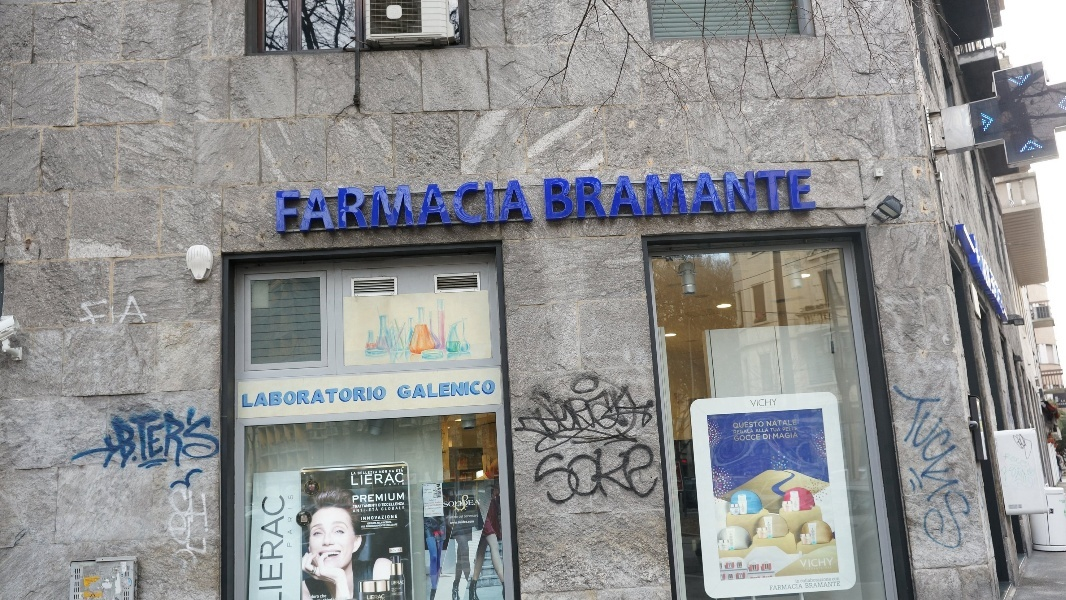text: (897, 383, 912, 554), (913, 383, 928, 554), (929, 383, 944, 554), (945, 383, 960, 554), (961, 383, 976, 554), (529, 373, 544, 452), (545, 373, 560, 452), (561, 373, 576, 452), (577, 373, 592, 452), (593, 373, 608, 452), (609, 373, 624, 452), (625, 373, 640, 452), (641, 373, 656, 452), (273, 497, 285, 592), (209, 407, 225, 475), (113, 407, 128, 475), (129, 407, 144, 475), (145, 407, 160, 475), (161, 407, 176, 475), (177, 407, 192, 475), (193, 407, 208, 475), (545, 442, 560, 510), (561, 442, 576, 510), (577, 442, 592, 510), (593, 442, 608, 510), (609, 442, 624, 510), (625, 442, 640, 510), (641, 442, 656, 510), (262, 497, 272, 592), (517, 373, 528, 452), (801, 170, 817, 223), (289, 180, 304, 234), (305, 180, 320, 234), (321, 180, 336, 234), (337, 180, 352, 234), (353, 180, 368, 234), (369, 180, 384, 234), (385, 180, 400, 234), (401, 180, 416, 234), (417, 180, 432, 234), (433, 180, 448, 234), (449, 180, 464, 234), (465, 180, 480, 234), (481, 180, 496, 234), (497, 180, 512, 234), (513, 180, 528, 234), (545, 170, 560, 223), (561, 170, 576, 223), (577, 170, 592, 223), (593, 170, 608, 223), (609, 170, 624, 223), (625, 170, 640, 223), (641, 170, 656, 223), (657, 170, 672, 223), (673, 170, 688, 223), (689, 170, 704, 223), (705, 170, 720, 223), (721, 170, 736, 223), (737, 170, 752, 223), (753, 170, 768, 223), (769, 170, 784, 223), (785, 170, 800, 223), (276, 180, 288, 234), (893, 383, 896, 554), (977, 383, 980, 554), (81, 295, 96, 328), (97, 295, 112, 328), (113, 295, 128, 328), (129, 295, 144, 328), (257, 386, 272, 410), (273, 386, 288, 410), (289, 386, 304, 410), (305, 386, 320, 410), (321, 386, 336, 410), (337, 386, 352, 410), (353, 386, 368, 410), (369, 386, 384, 410), (242, 386, 256, 410), (289, 495, 295, 550), (529, 180, 535, 234), (401, 381, 416, 401), (417, 381, 432, 401), (433, 381, 448, 401), (449, 381, 464, 401), (465, 381, 480, 401), (481, 381, 496, 401), (540, 442, 544, 510), (657, 442, 661, 510), (1009, 451, 1024, 469), (353, 473, 368, 486), (369, 473, 384, 486), (385, 473, 400, 486), (145, 295, 150, 328), (657, 373, 659, 452), (353, 493, 368, 503), (369, 493, 384, 503), (385, 493, 400, 503), (801, 558, 816, 568), (817, 558, 832, 568), (1025, 451, 1033, 469), (465, 499, 481, 507), (449, 499, 464, 507), (753, 399, 768, 407), (737, 422, 752, 430), (769, 420, 784, 428), (737, 434, 752, 442), (817, 582, 832, 589), (785, 432, 799, 439), (753, 422, 765, 430), (785, 420, 797, 428), (369, 515, 384, 521), (801, 578, 816, 584), (785, 585, 800, 591), (1003, 451, 1008, 469), (817, 578, 831, 584), (770, 585, 784, 591), (369, 595, 385, 600), (465, 495, 470, 511), (385, 515, 398, 521), (773, 432, 784, 439), (805, 582, 816, 589), (353, 503, 368, 508), (385, 502, 400, 507), (385, 506, 400, 511), (737, 430, 752, 435), (769, 399, 778, 407), (785, 427, 798, 432), (753, 434, 761, 442), (397, 381, 400, 401), (369, 524, 384, 528), (817, 567, 832, 571), (354, 508, 368, 512), (465, 515, 479, 519), (450, 521, 464, 525), (770, 428, 784, 432), (833, 582, 841, 589), (757, 428, 768, 433), (401, 473, 405, 486), (385, 386, 387, 410), (804, 567, 816, 571), (385, 483, 400, 486), (369, 503, 378, 508), (385, 524, 400, 527), (391, 581, 400, 586), (833, 578, 848, 581), (389, 469, 400, 473), (309, 595, 320, 599), (361, 515, 368, 521), (358, 471, 368, 475), (401, 493, 405, 503), (369, 508, 379, 512), (465, 521, 475, 525), (369, 471, 378, 475), (449, 516, 458, 520), (444, 499, 448, 507), (321, 594, 327, 599), (391, 549, 400, 552), (379, 502, 384, 507), (369, 522, 377, 525), (392, 590, 400, 593), (733, 422, 736, 430), (764, 434, 768, 440), (385, 521, 392, 524), (401, 502, 405, 507), (401, 506, 405, 511), (401, 581, 405, 586), (459, 515, 464, 519), (391, 588, 400, 590), (801, 585, 804, 591), (380, 470, 384, 474), (376, 522, 384, 524), (392, 594, 400, 596), (750, 399, 752, 407), (766, 420, 768, 428), (796, 580, 800, 584), (381, 506, 384, 511), (733, 430, 736, 435), (361, 526, 368, 528), (353, 472, 357, 475), (385, 470, 388, 474), (396, 469, 400, 472), (401, 483, 405, 486), (769, 434, 771, 440), (753, 430, 755, 435), (833, 558, 834, 568), (401, 469, 404, 472), (366, 524, 368, 528), (392, 593, 400, 594), (735, 434, 736, 442), (397, 594, 400, 596), (367, 595, 368, 600), (769, 428, 770, 433), (783, 427, 784, 432), (385, 524, 386, 528), (401, 594, 403, 596), (447, 516, 448, 520), (367, 522, 368, 525), (383, 521, 384, 524), (401, 549, 402, 552), (401, 588, 402, 590), (398, 593, 400, 594), (401, 593, 403, 594)
